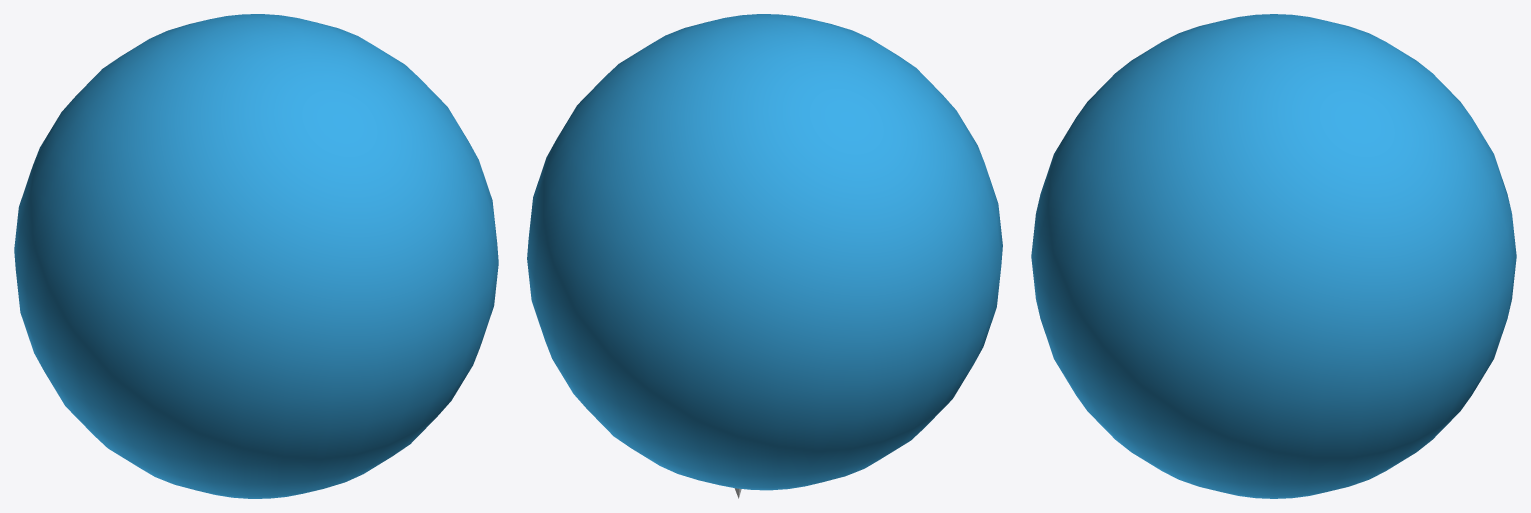
File: chara_02_star.fbx
The picture shows the model from 3 angles, left to right: view 1: azimuth 30°, elevation 25°; view 2: azimuth 150°, elevation 25°; view 3: azimuth 270°, elevation 25°; orthographic projection.
Visible parts, largest first — view 1: Sphere; view 2: Sphere; view 3: Sphere.
Part boxes in pixels (x1,y1,x2,y2): Sphere: [14, 14, 498, 498]; Sphere: [527, 14, 1002, 490]; Sphere: [1031, 14, 1516, 498].
Size of the model in its own units: 229 by 233 by 229.
